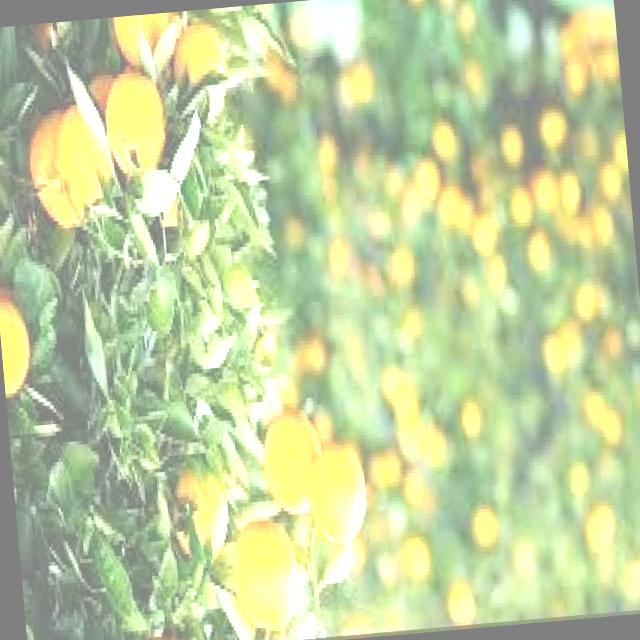Orange: (19, 93, 130, 254), (253, 404, 340, 532), (228, 513, 309, 640), (100, 62, 172, 204), (303, 434, 378, 566), (163, 458, 240, 585), (167, 26, 240, 138), (0, 279, 45, 412), (110, 15, 190, 86)
